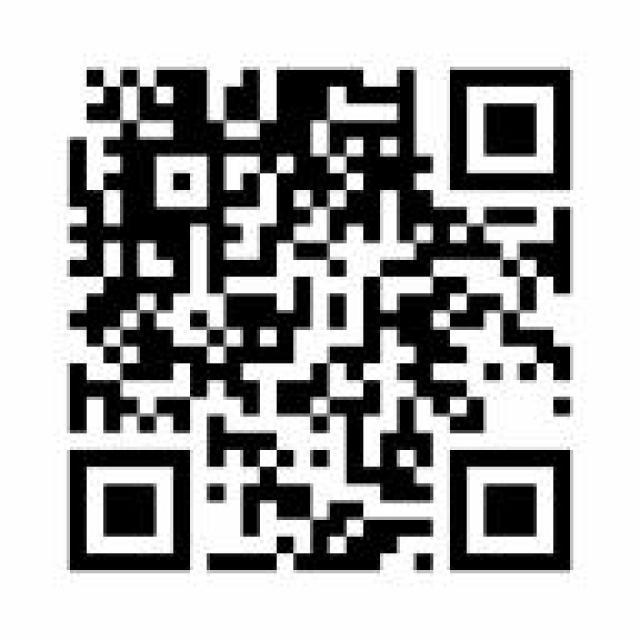qr_code: (67, 66, 571, 572)
